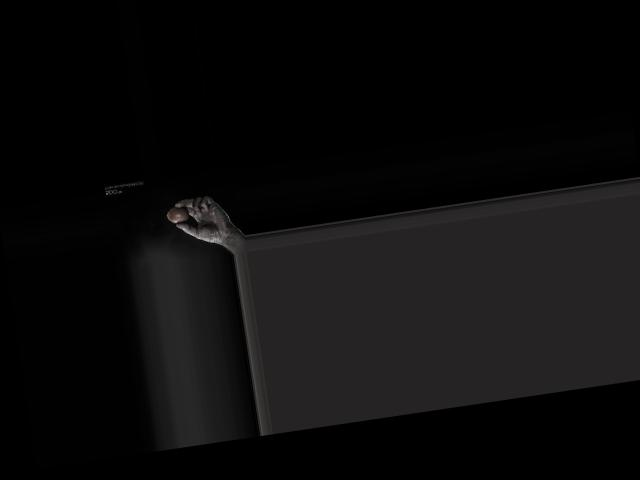egg: (166, 205, 191, 224)
